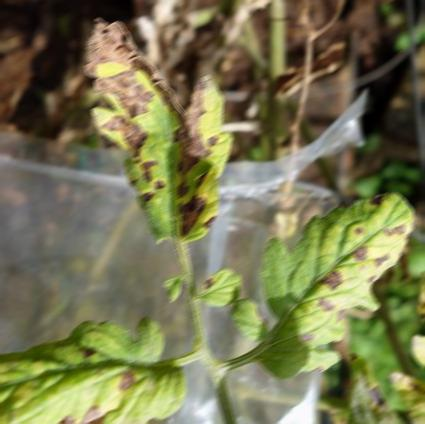Tomato Septoria leaf spot: (77, 4, 232, 250), (236, 186, 421, 383), (1, 316, 194, 423)
